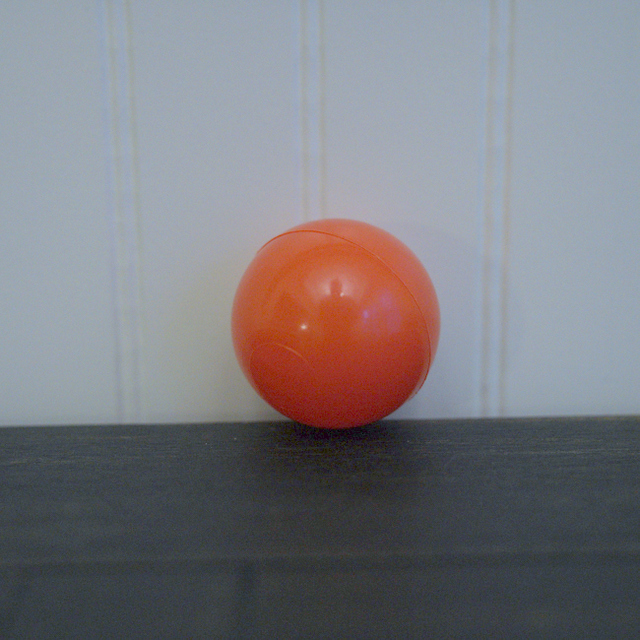Ball: (236, 219, 437, 426)
